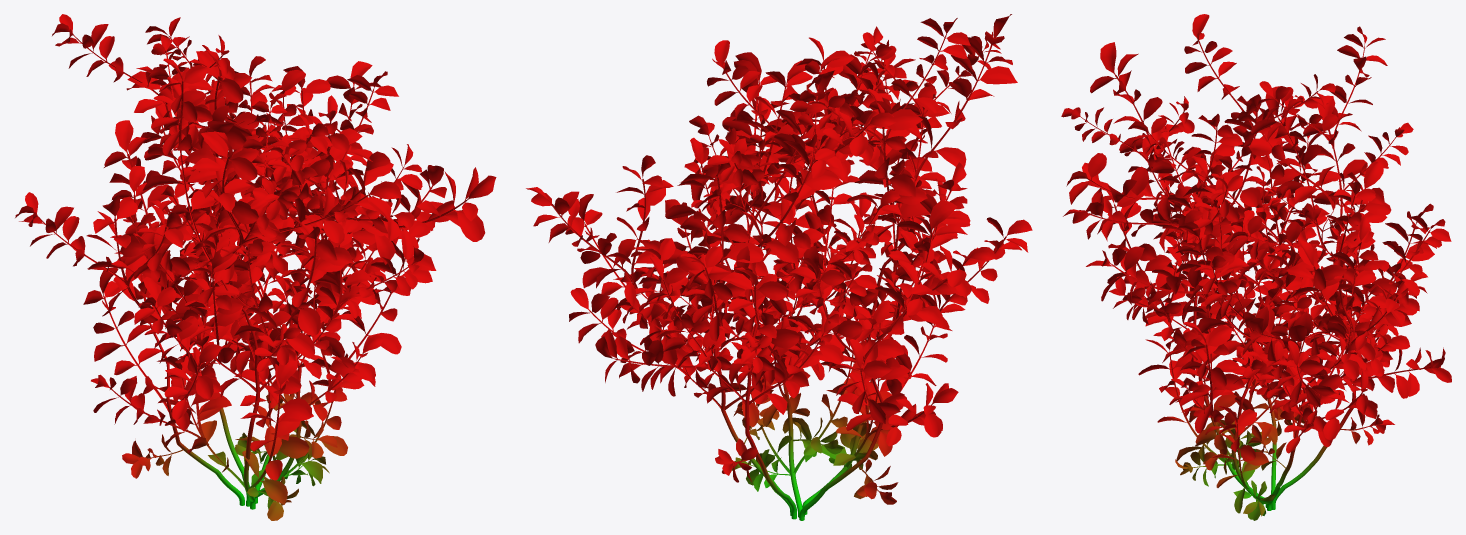
The model's file is Var11_LOD0.fbx.
The picture shows the model from 3 angles, left to right: view 1: azimuth 30°, elevation 25°; view 2: azimuth 150°, elevation 25°; view 3: azimuth 270°, elevation 25°; orthographic projection. The views are drawn at different scales.
Parts seen in each view (by area): view 1: _7k2x_Var11_LOD0; view 2: _7k2x_Var11_LOD0; view 3: _7k2x_Var11_LOD0.
Boxes of the visible parts, x1=… form: _7k2x_Var11_LOD0: x1=15, y1=14, x2=496, y2=520; _7k2x_Var11_LOD0: x1=526, y1=14, x2=1032, y2=520; _7k2x_Var11_LOD0: x1=1061, y1=14, x2=1451, y2=520.
Bounding box in the file's own units: 176 × 198 × 159.
